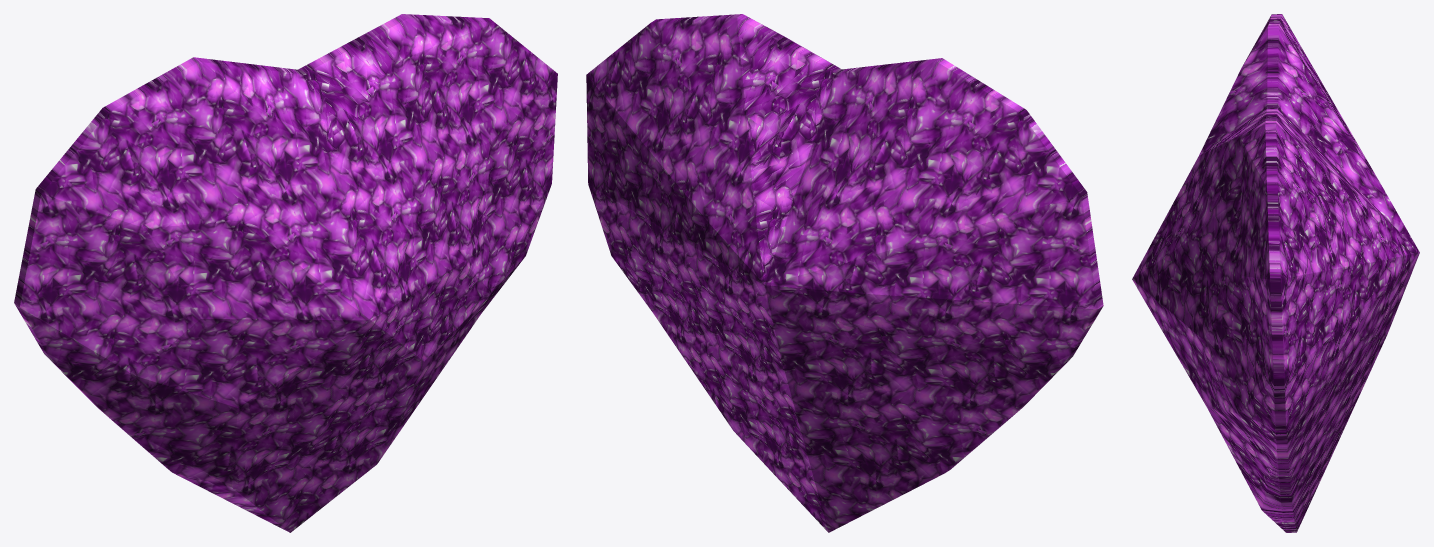
File: Diamond.FBX
3 views of the same model, side by side, from view 1: azimuth 30°, elevation 25°; view 2: azimuth 150°, elevation 25°; view 3: azimuth 270°, elevation 25° (orthographic). The views are drawn at different scales.
Parts seen in each view (by area): view 1: Cylinder01; view 2: Cylinder01; view 3: Cylinder01.
Boxes of the visible parts, x1=… form: Cylinder01: x1=14, y1=14, x2=557, y2=532; Cylinder01: x1=586, y1=14, x2=1103, y2=532; Cylinder01: x1=1132, y1=14, x2=1419, y2=532.
Bounding box in the file's own units: 37.98 × 34.29 × 19.38.
Materials: 1 (1 with a texture image).
